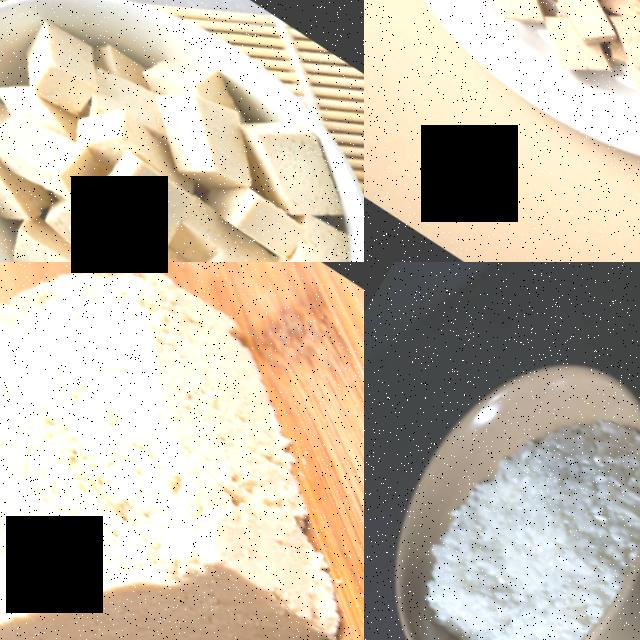tofu: (0, 262, 364, 640), (215, 82, 364, 224), (129, 56, 273, 198), (82, 131, 204, 252), (4, 2, 116, 119), (0, 89, 109, 209), (0, 204, 123, 262), (172, 226, 317, 262), (596, 0, 640, 80), (472, 0, 557, 32)
white rice: (387, 345, 640, 640)
